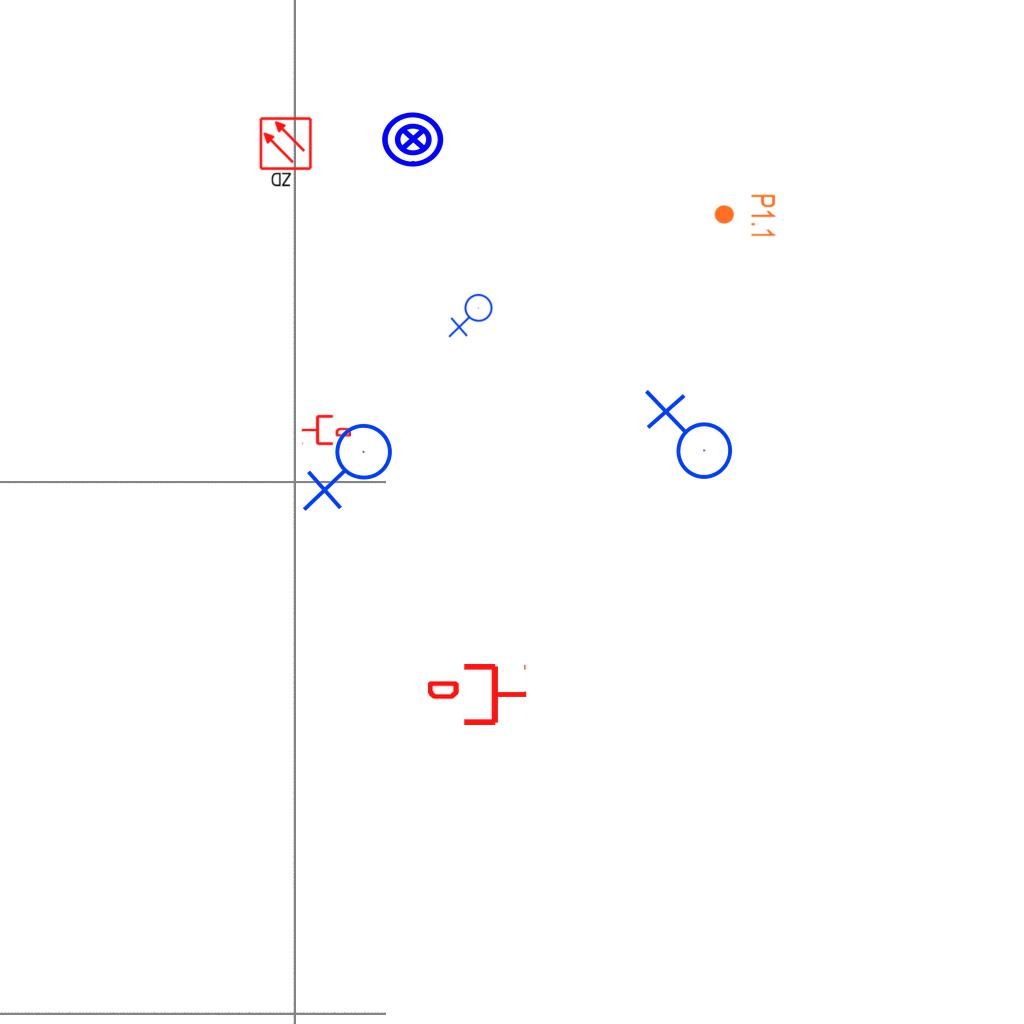Datenanschluss_einfach: (428, 660, 528, 729), (301, 413, 351, 447)
Downlight_LED_Einbauleuchten_Flur: (713, 193, 777, 239)
Elektroanschluss_allgemein_230V_Geraeteanschlussdose_230V: (640, 389, 734, 488), (302, 422, 401, 516), (448, 293, 497, 340)
Taster_beleuchtet: (380, 106, 446, 172)
ZD_Melder_in_Zwischendecke_mit_Revisionsoeffnung_mind_40_x_40_cm: (258, 116, 315, 190)
